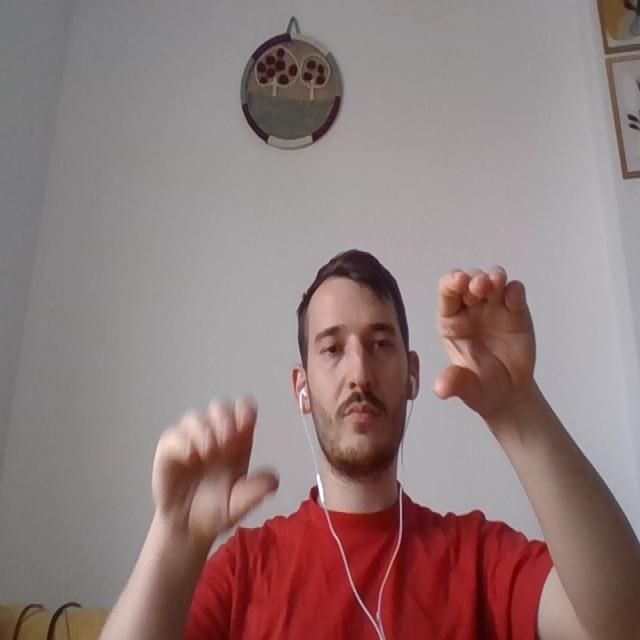no: (423, 269, 539, 416)
